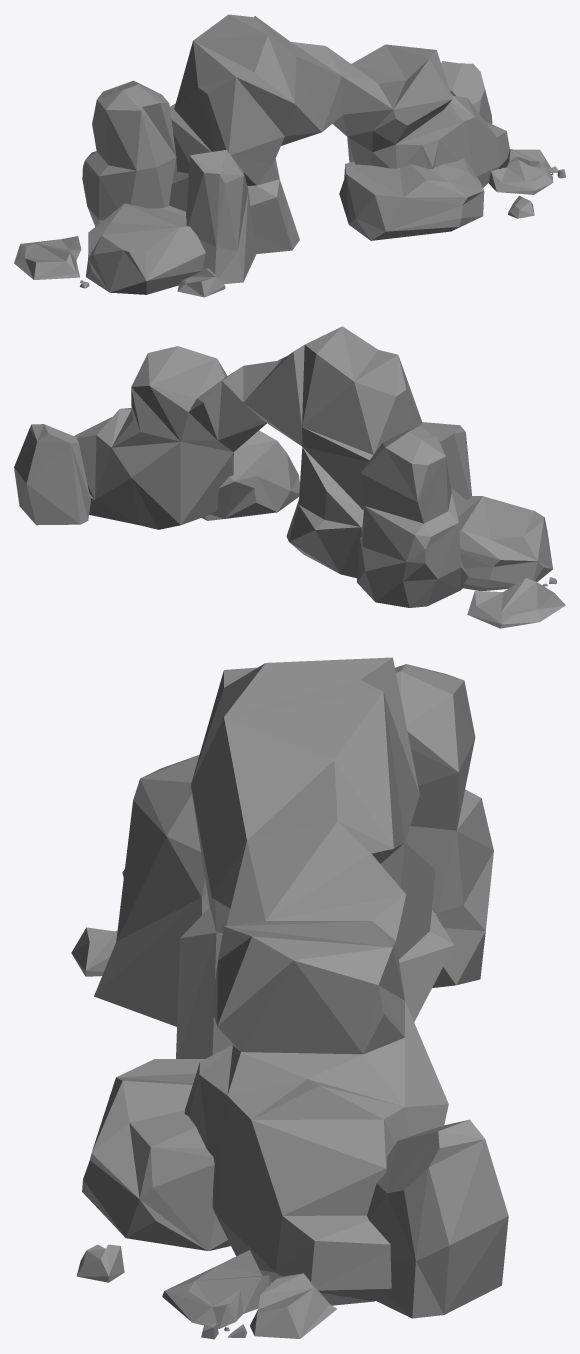
The model's file is Stone_B_08.FBX.
3 views of the same model, one above another, from view 1: azimuth 30°, elevation 25°; view 2: azimuth 150°, elevation 25°; view 3: azimuth 270°, elevation 25° (orthographic). The views are drawn at different scales.
Parts seen in each view (by area): view 1: Stone_B_08; view 2: Stone_B_08; view 3: Stone_B_08.
Boxes of the visible parts, bbox=[...] form: Stone_B_08: bbox=[14, 14, 565, 297]; Stone_B_08: bbox=[14, 326, 565, 628]; Stone_B_08: bbox=[71, 657, 508, 1339].
Bounding box in the file's own units: 26.55 × 10 × 9.94.
